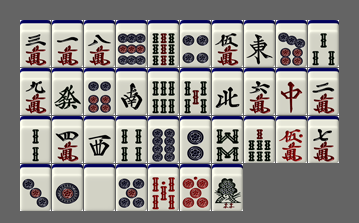0m: (276, 116, 307, 163)
0p: (180, 164, 211, 211)
0s: (148, 164, 179, 211)
1m: (52, 20, 83, 67)
1p: (52, 164, 83, 211)
1s: (212, 164, 243, 211)
1z: (244, 20, 275, 67)
2m: (308, 68, 339, 115)
2p: (180, 116, 211, 163)
2s: (20, 116, 51, 163)
2z: (116, 68, 147, 115)
3m: (20, 20, 51, 67)
3p: (20, 164, 51, 211)
3s: (308, 20, 339, 67)
3z: (84, 116, 115, 163)
4m: (52, 116, 83, 163)
4p: (180, 20, 211, 67)
4s: (116, 116, 147, 163)
4z: (212, 68, 243, 115)
5m: (212, 20, 243, 67)
5p: (116, 164, 147, 211)
5s: (180, 68, 211, 115)
5z: (84, 164, 115, 211)
6m: (244, 68, 275, 115)
6p: (84, 68, 115, 115)
6s: (148, 68, 179, 115)
6z: (52, 68, 83, 115)
7m: (308, 116, 339, 163)
7p: (276, 20, 307, 67)
7s: (244, 116, 275, 163)
7z: (276, 68, 307, 115)
8m: (84, 20, 115, 67)
8p: (148, 116, 179, 163)
8s: (212, 116, 243, 163)
9m: (20, 68, 51, 115)
9p: (116, 20, 147, 67)
9s: (148, 20, 179, 67)
